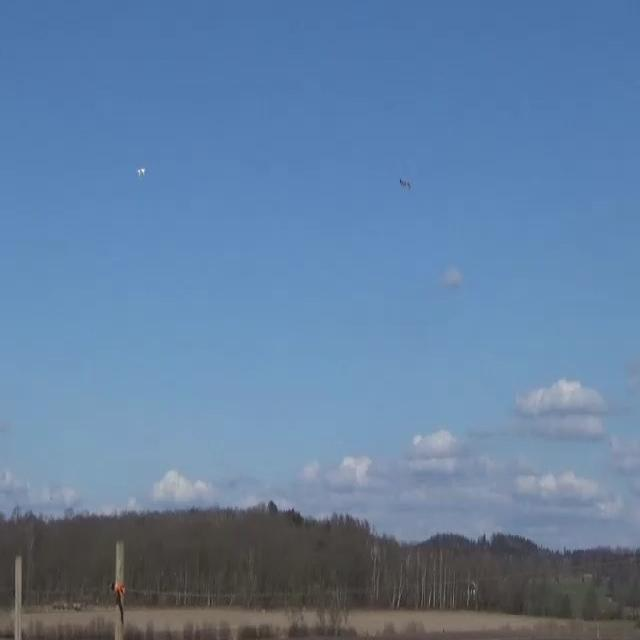drone: (400, 177, 412, 191), (136, 166, 145, 179)
